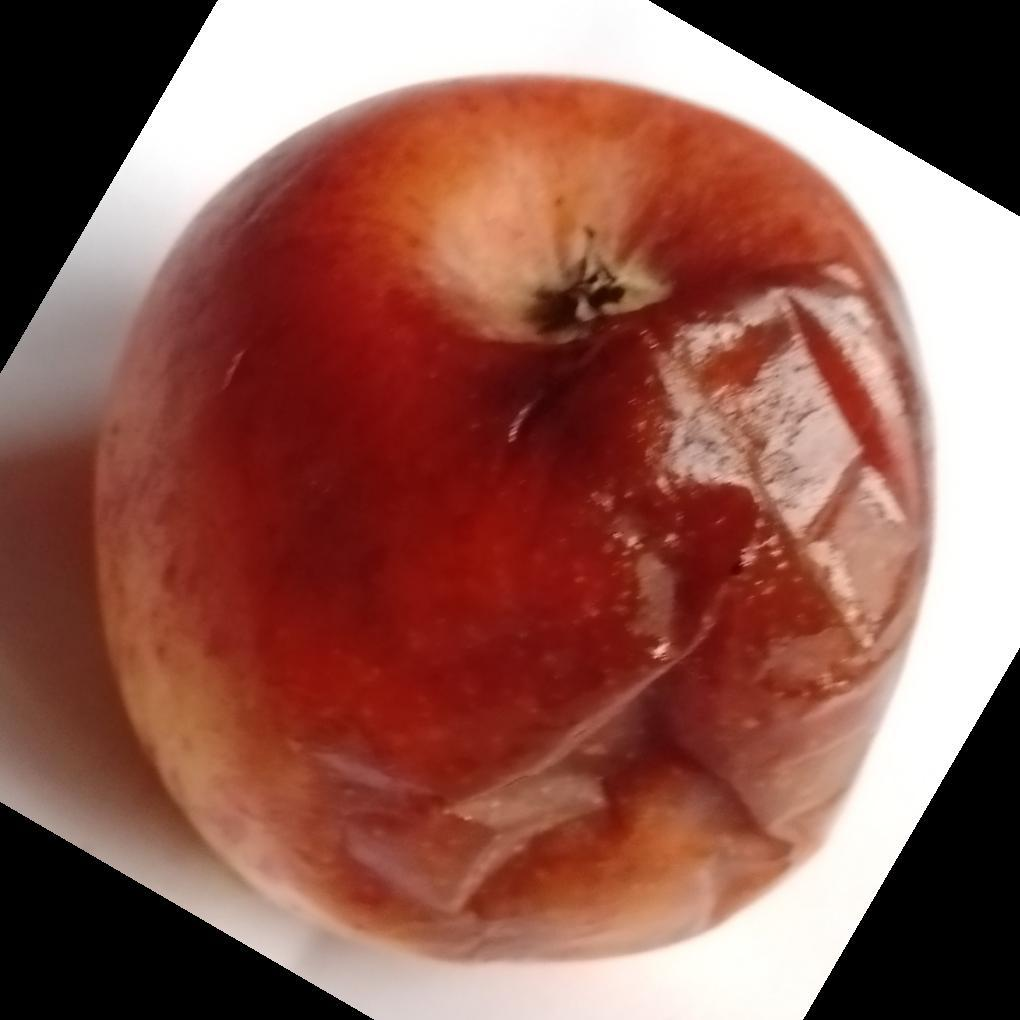FreshOrange: (89, 74, 939, 973)
